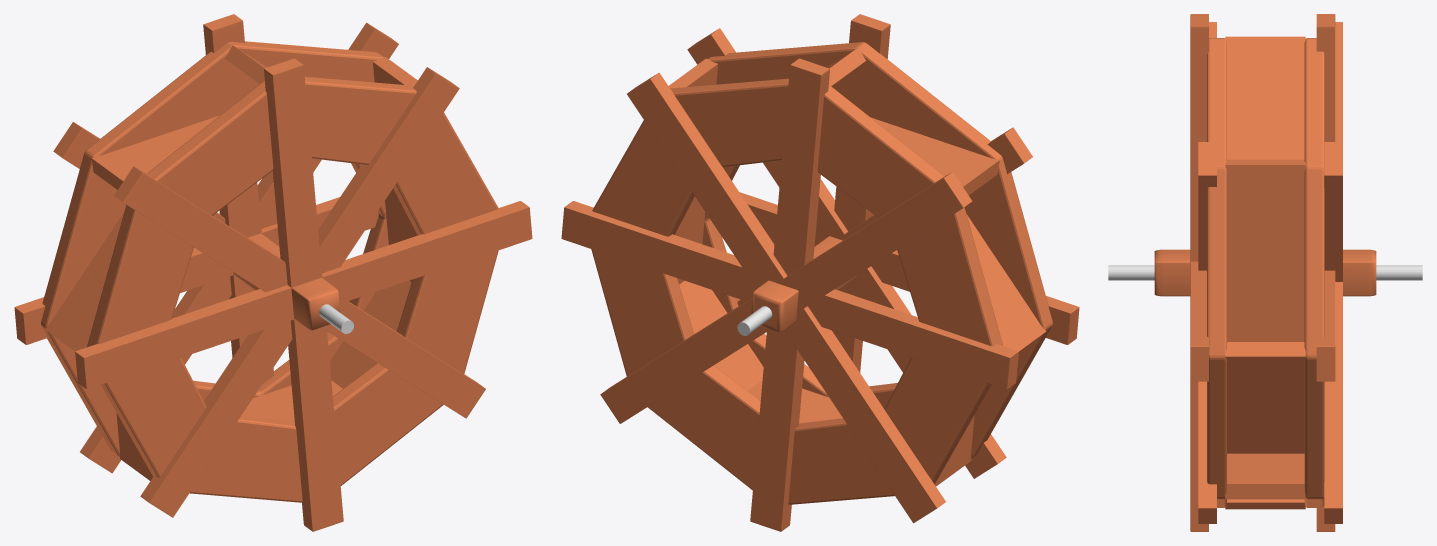
The model's file is waterWheel.fbx.
The picture shows the model from 3 angles, left to right: view 1: azimuth 30°, elevation 25°; view 2: azimuth 150°, elevation 25°; view 3: azimuth 270°, elevation 25°; orthographic projection. The views are drawn at different scales.
Visible parts, largest first — view 1: wheel; view 2: wheel; view 3: wheel, axl.
Part boxes in pixels (bbox=[...]): wheel: bbox=[14, 14, 532, 531]; wheel: bbox=[561, 14, 1079, 531]; wheel: bbox=[1154, 14, 1376, 531]; axl: bbox=[1108, 265, 1422, 280].
Size of the model in its own units: 1337 by 1337 by 780.
